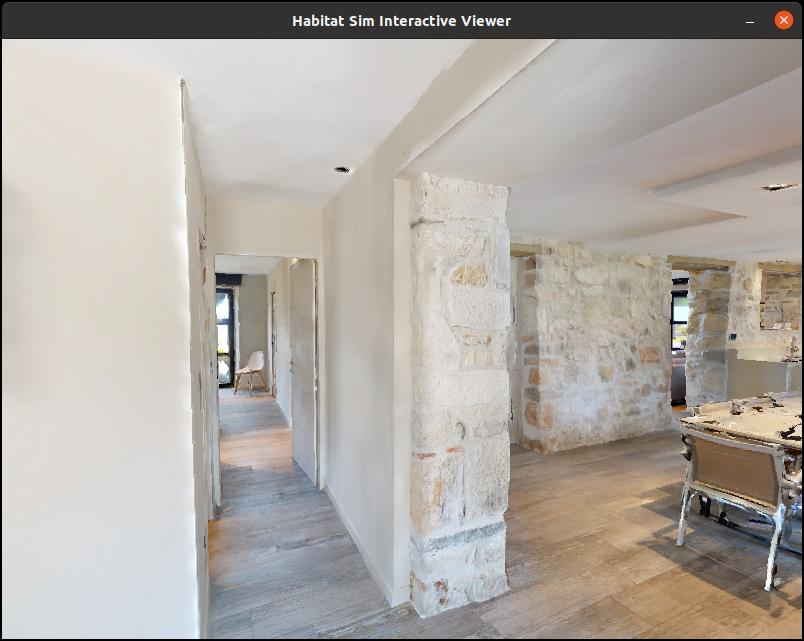chair: (669, 399, 804, 598)
door-frame: (399, 39, 804, 641), (143, 77, 424, 641), (193, 241, 344, 510)
table: (669, 371, 804, 506)
